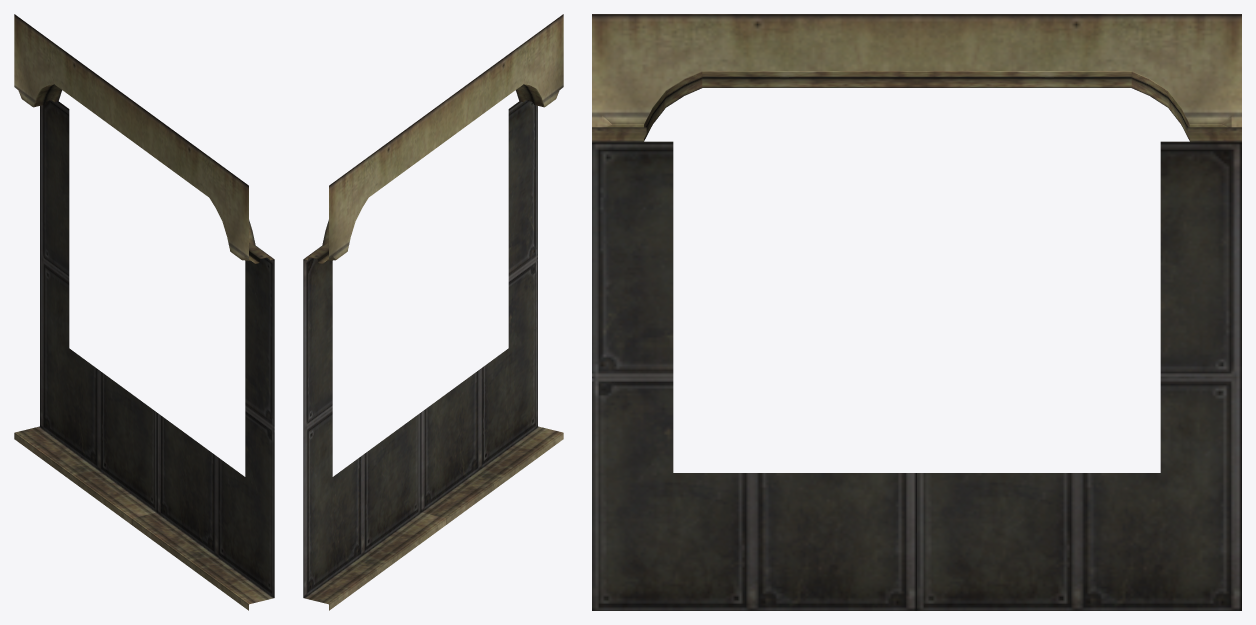
The model's file is pplant_ground_window.dae.
3 renders of one model, left to right at view 1: azimuth 30°, elevation 25°; view 2: azimuth 150°, elevation 25°; view 3: azimuth 270°, elevation 25°, orthographic. The views are drawn at different scales.
Parts seen in each view (by area): view 1: ground_window; view 2: ground_window; view 3: ground_window.
Part boxes in pixels (left/top/right/bottom): ground_window: left=14, top=14, right=274, bottom=610; ground_window: left=303, top=14, right=563, bottom=610; ground_window: left=592, top=14, right=1241, bottom=610.
Size of the model in its own units: 0.25 by 4 by 4.
